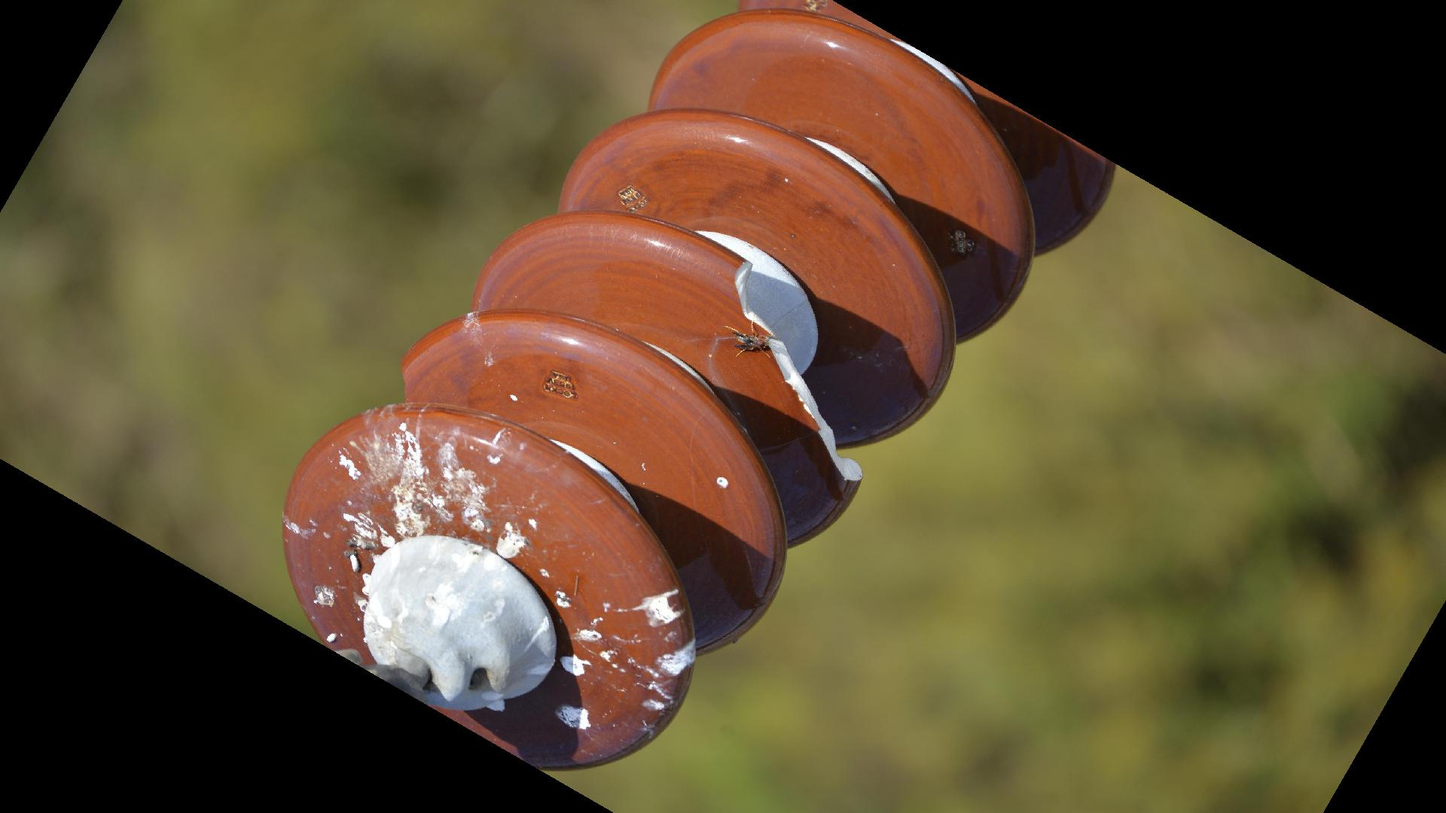insulator: (273, 1, 1122, 781)
insulator_breakage: (715, 247, 874, 507)
